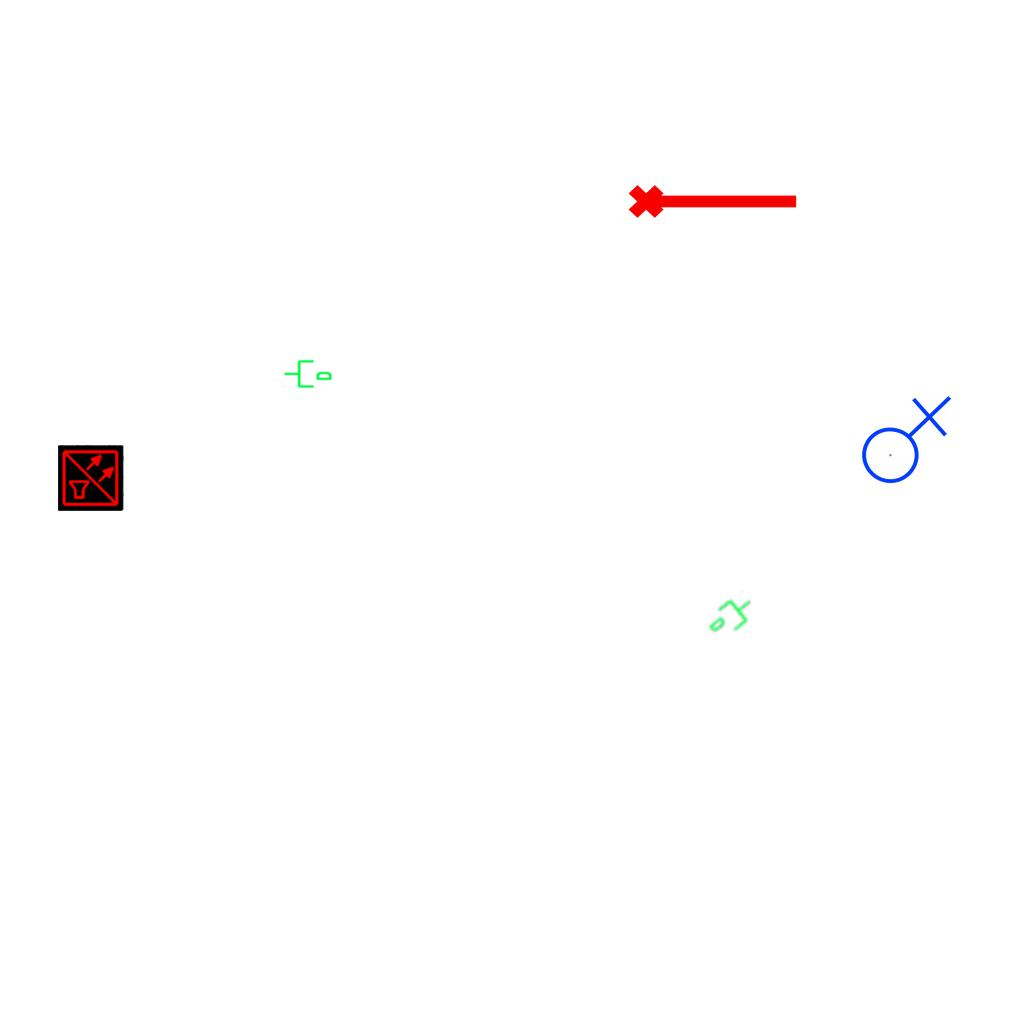ASR_Ansaugoeffnung: (626, 176, 802, 222)
Datenanschluss_einfach: (701, 588, 763, 646), (283, 356, 333, 390)
Elektroanschluss_allgemein_230V_Geraeteanschlussdose_230V: (853, 391, 952, 485)
OKW_Multisensormelder_(Kombination_optischer_Rauch-Kahlenmonoxid_Waerme-Melder): (58, 445, 124, 511)
